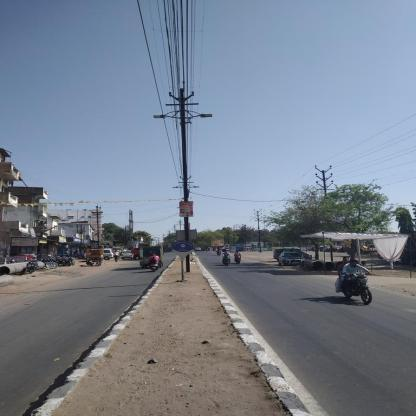Electrical Pole: (153, 79, 215, 275)
